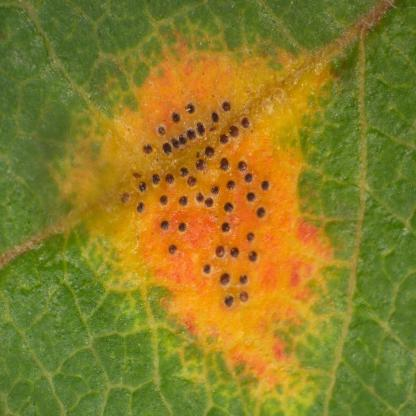apple rust leaf: (46, 25, 352, 398)
